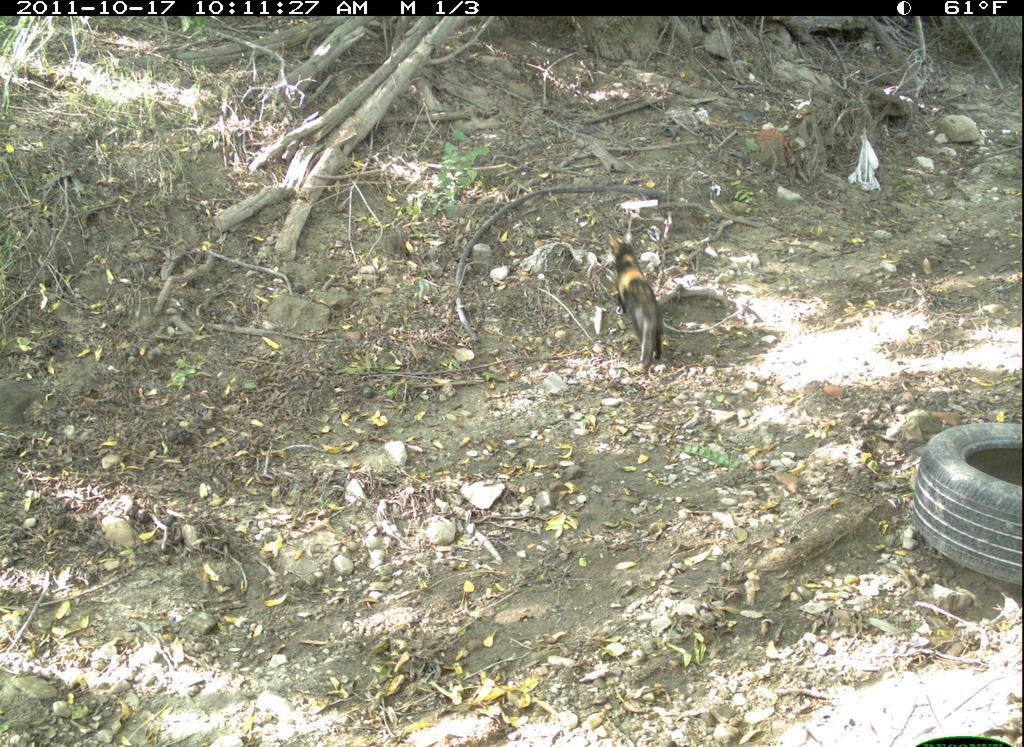cat: (605, 225, 671, 386)
